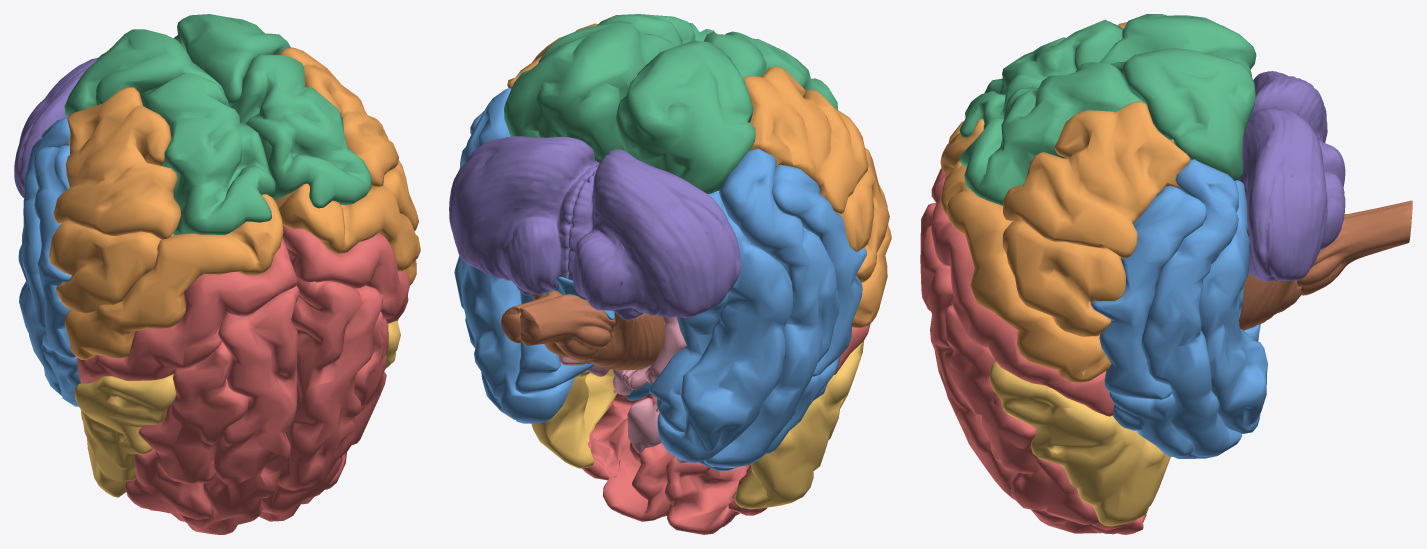
Rendered from brain.glb.
3 renders of one model, left to right at view 1: azimuth 30°, elevation 25°; view 2: azimuth 150°, elevation 25°; view 3: azimuth 270°, elevation 25°, orthographic. The views are drawn at different scales.
Visible parts, largest first — view 1: Маңдай бөлігі, Төбе бөлігі, Шүйде бөлігі, Самай бөлігі, Аралшық, Мишық; view 2: Самай бөлігі, Мишық, Шүйде бөлігі, Төбе бөлігі, Маңдай бөлігі, Аралшық, Ми бағаны, Ішкі құрылымдар, Ми қарыншалары; view 3: Төбе бөлігі, Самай бөлігі, Шүйде бөлігі, Маңдай бөлігі, Мишық, Аралшық, Ми бағаны.
Boxes of the visible parts, box(x1,y1,x2,y2) form: Маңдай бөлігі: box(77, 225, 409, 534); Төбе бөлігі: box(49, 47, 420, 359); Шүйде бөлігі: box(64, 14, 371, 235); Самай бөлігі: box(18, 115, 80, 406); Аралшық: box(75, 319, 400, 497); Мишық: box(14, 57, 98, 197); Самай бөлігі: box(454, 88, 866, 470); Мишық: box(449, 136, 741, 320); Шүйде бөлігі: box(504, 14, 837, 193); Төбе бөлігі: box(507, 23, 891, 328); Маңдай бөлігі: box(582, 324, 870, 534); Аралшық: box(531, 336, 866, 509); Ми бағаны: box(501, 290, 665, 370); Ішкі құрылымдар: box(558, 316, 687, 463); Ми қарыншалары: box(540, 276, 651, 400); Төбе бөлігі: box(940, 22, 1190, 382); Самай бөлігі: box(1091, 159, 1267, 458); Шүйде бөлігі: box(959, 14, 1256, 205); Маңдай бөлігі: box(920, 168, 1146, 534); Мишық: box(1239, 71, 1345, 281); Аралшық: box(989, 361, 1170, 526); Ми бағаны: box(1239, 200, 1412, 330).
Size of the model in its own units: 134 by 170 by 157.
